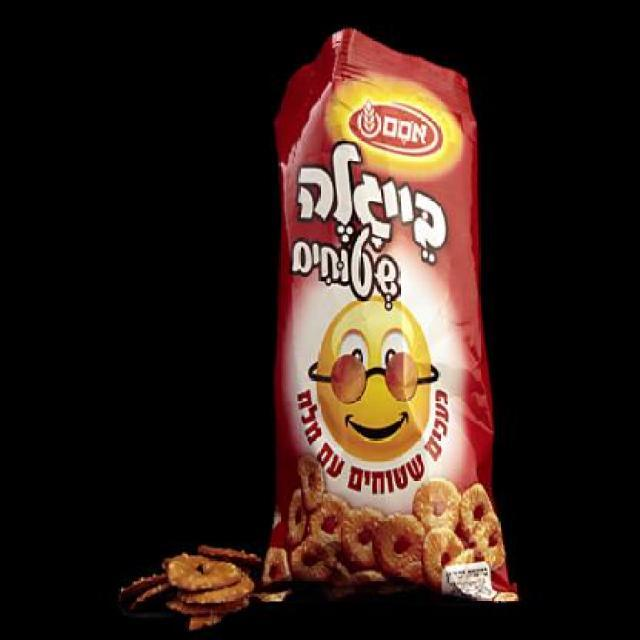Chips: (263, 25, 523, 608)
